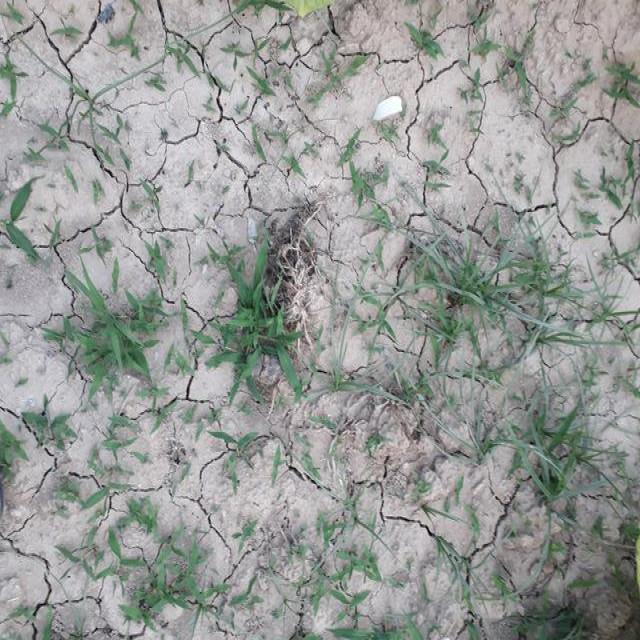weed: (404, 230, 548, 352), (95, 502, 198, 625), (218, 258, 301, 387), (63, 273, 148, 382), (511, 420, 590, 493)
